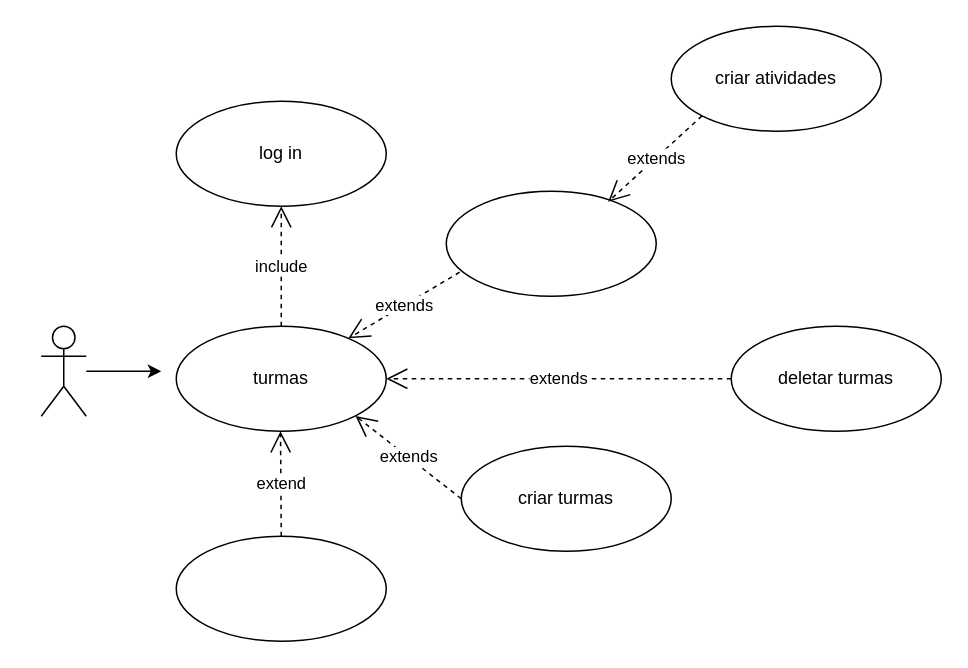
This 968x668 diagram has some shape labels left out. Each missing label, with the centre of its shape:
"atividades" belongs at point (550, 243).
"log off" belongs at point (280, 588).
"Professor" belongs at point (63, 370).
